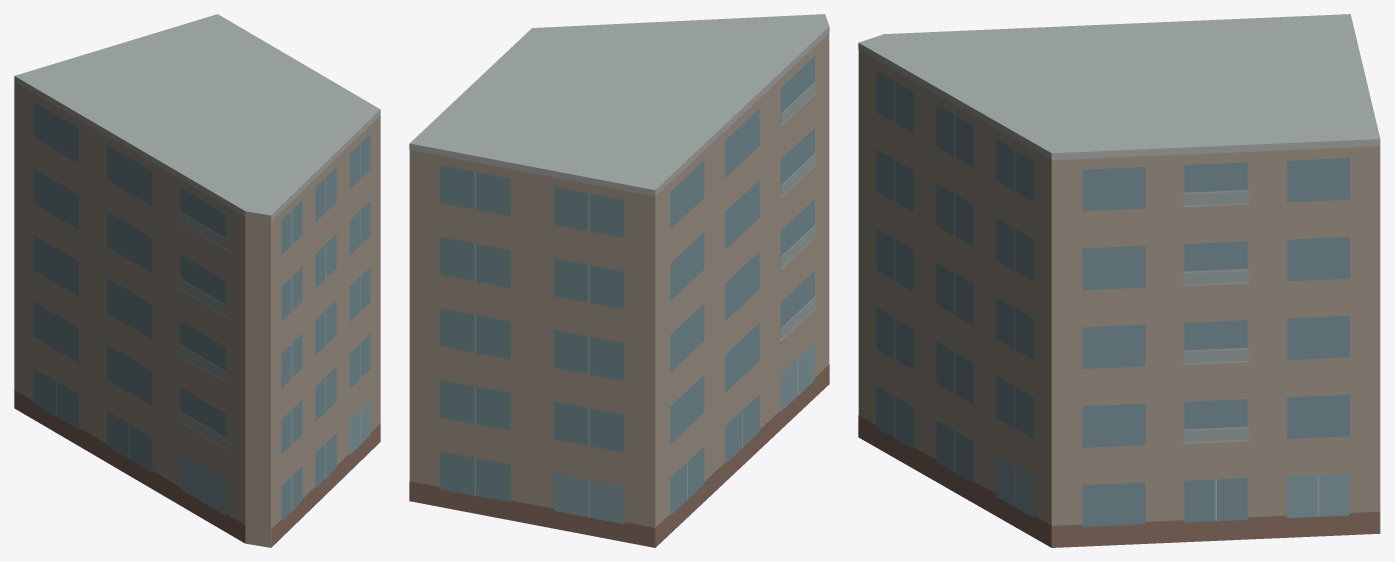
File: survey-upis-32540825.glb
3 views of the same model, side by side, from view 1: azimuth 30°, elevation 25°; view 2: azimuth 150°, elevation 25°; view 3: azimuth 270°, elevation 25° (orthographic). The views are drawn at different scales.
Parts seen in each view (by area): view 1: survey-upis-32540825.tmp; view 2: survey-upis-32540825.tmp; view 3: survey-upis-32540825.tmp.
Boxes of the visible parts, x1=… form: survey-upis-32540825.tmp: x1=14, y1=14, x2=380, y2=547; survey-upis-32540825.tmp: x1=409, y1=14, x2=829, y2=547; survey-upis-32540825.tmp: x1=858, y1=14, x2=1380, y2=547.
Size of the model in its own units: 10.38 by 13.7 by 16.43.
